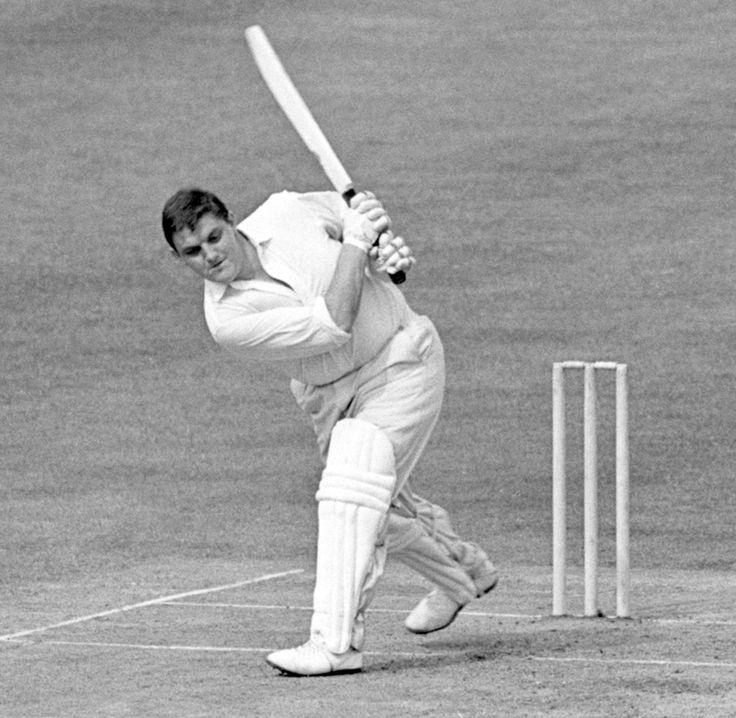batsman: (152, 165, 502, 668)
